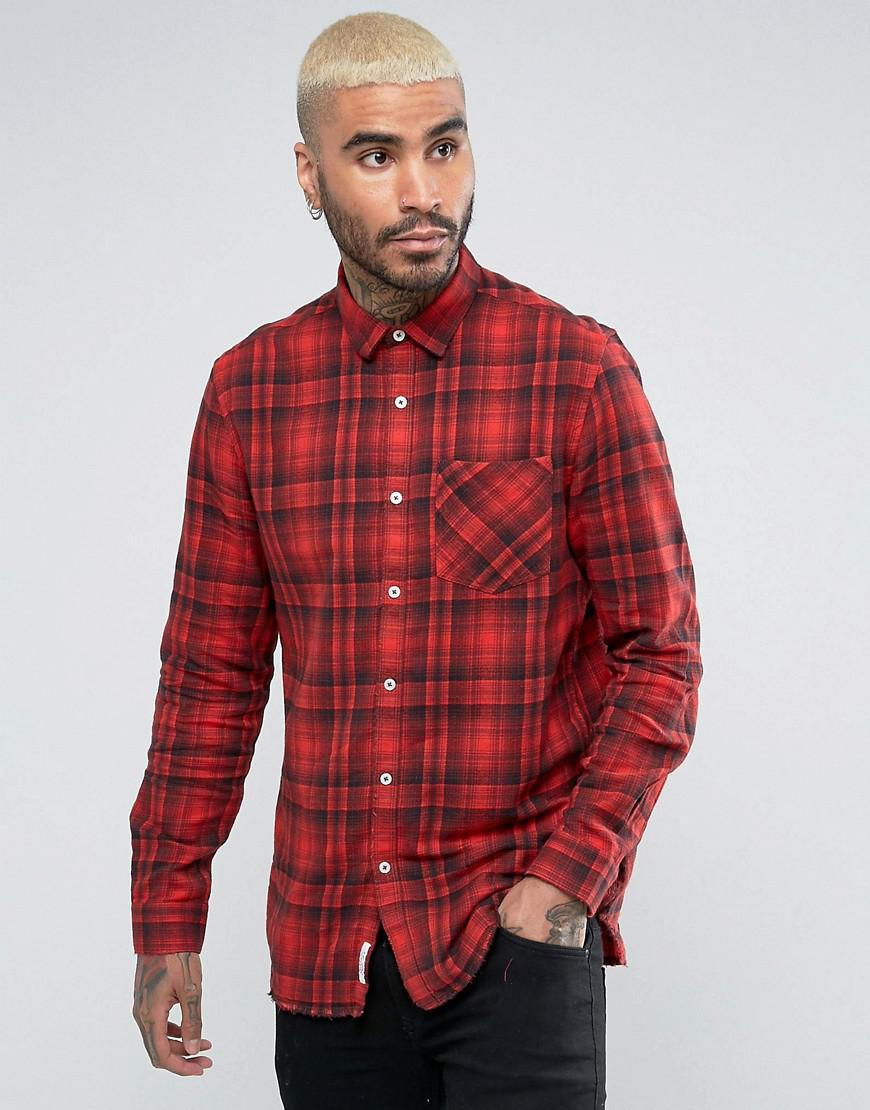teeshirt: (110, 261, 710, 1027)
